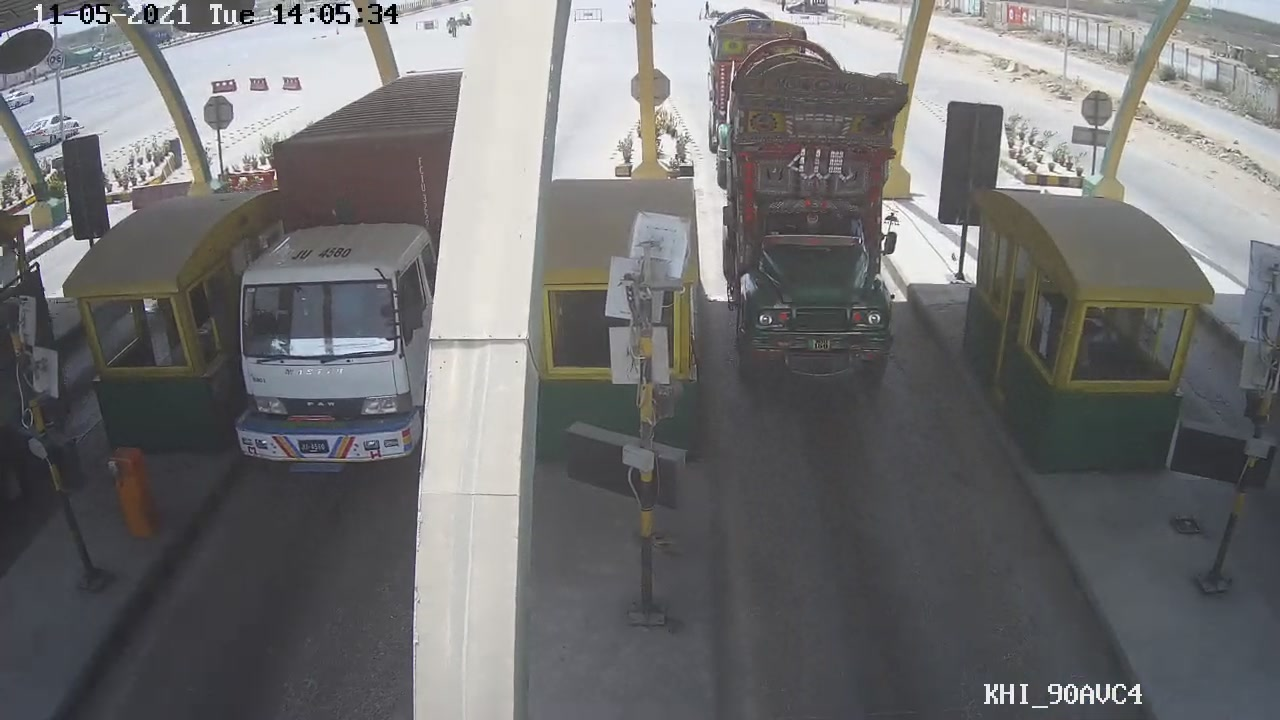F5: (721, 48, 913, 414)
